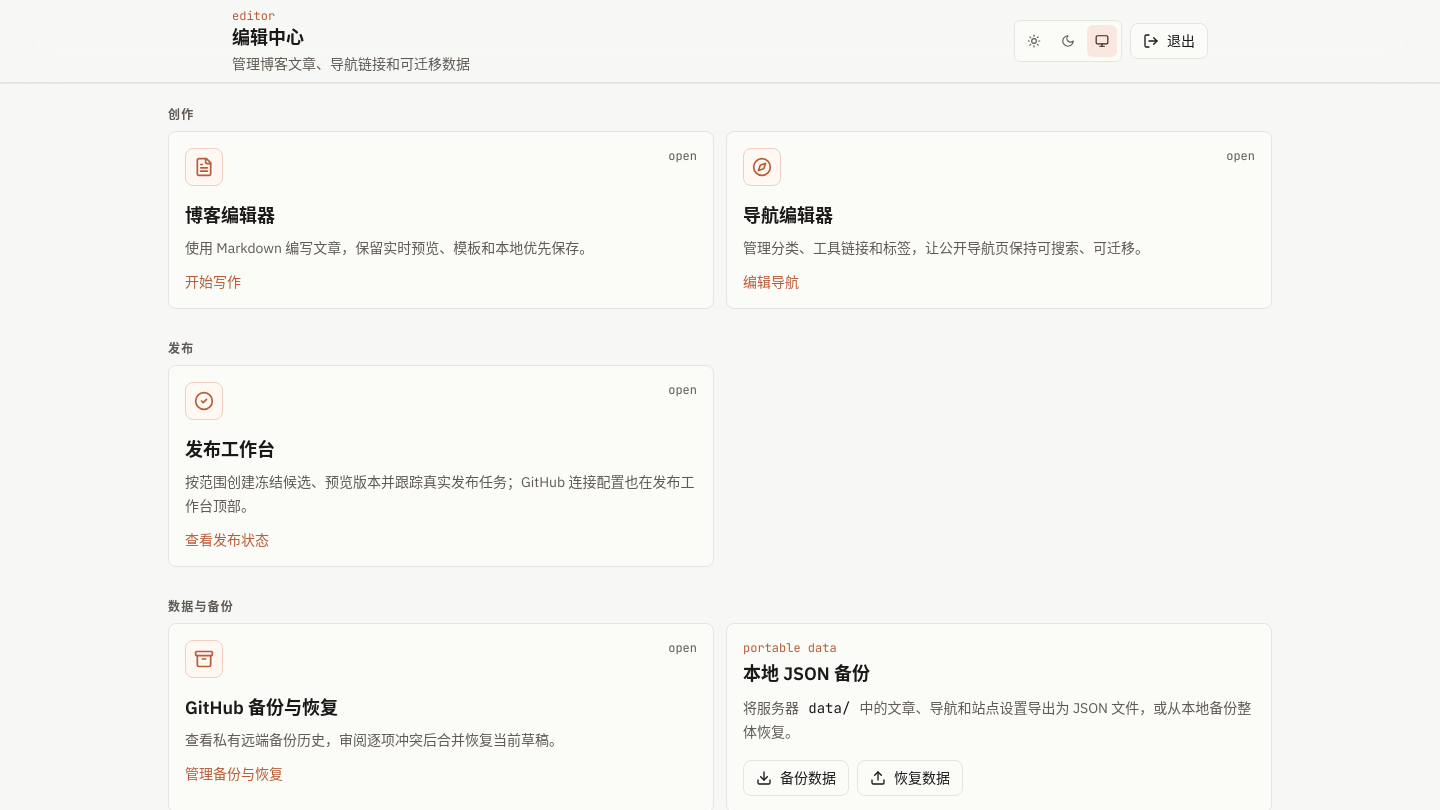
EditorHomePage › shows the backend backup failure message when portable backup download is rejected
Step 1. Click the button "备份数据" → (796, 778), box x1=743 y1=760 x2=849 y2=796
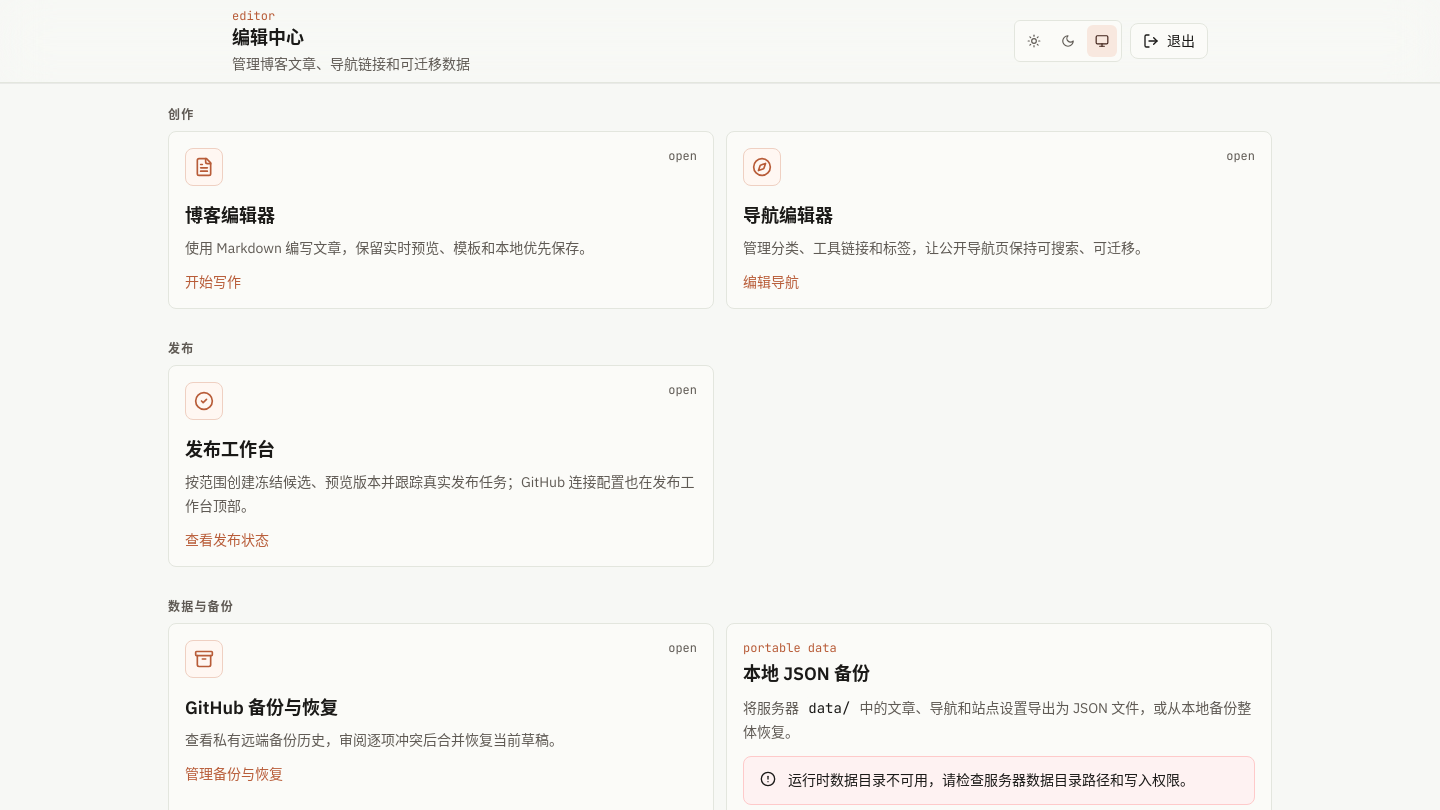
Expected: the text "运行时数据目录不可用，请检查服务器数据目录路径和写入权限。" is shown, x1=788 y1=769 x2=1194 y2=792
